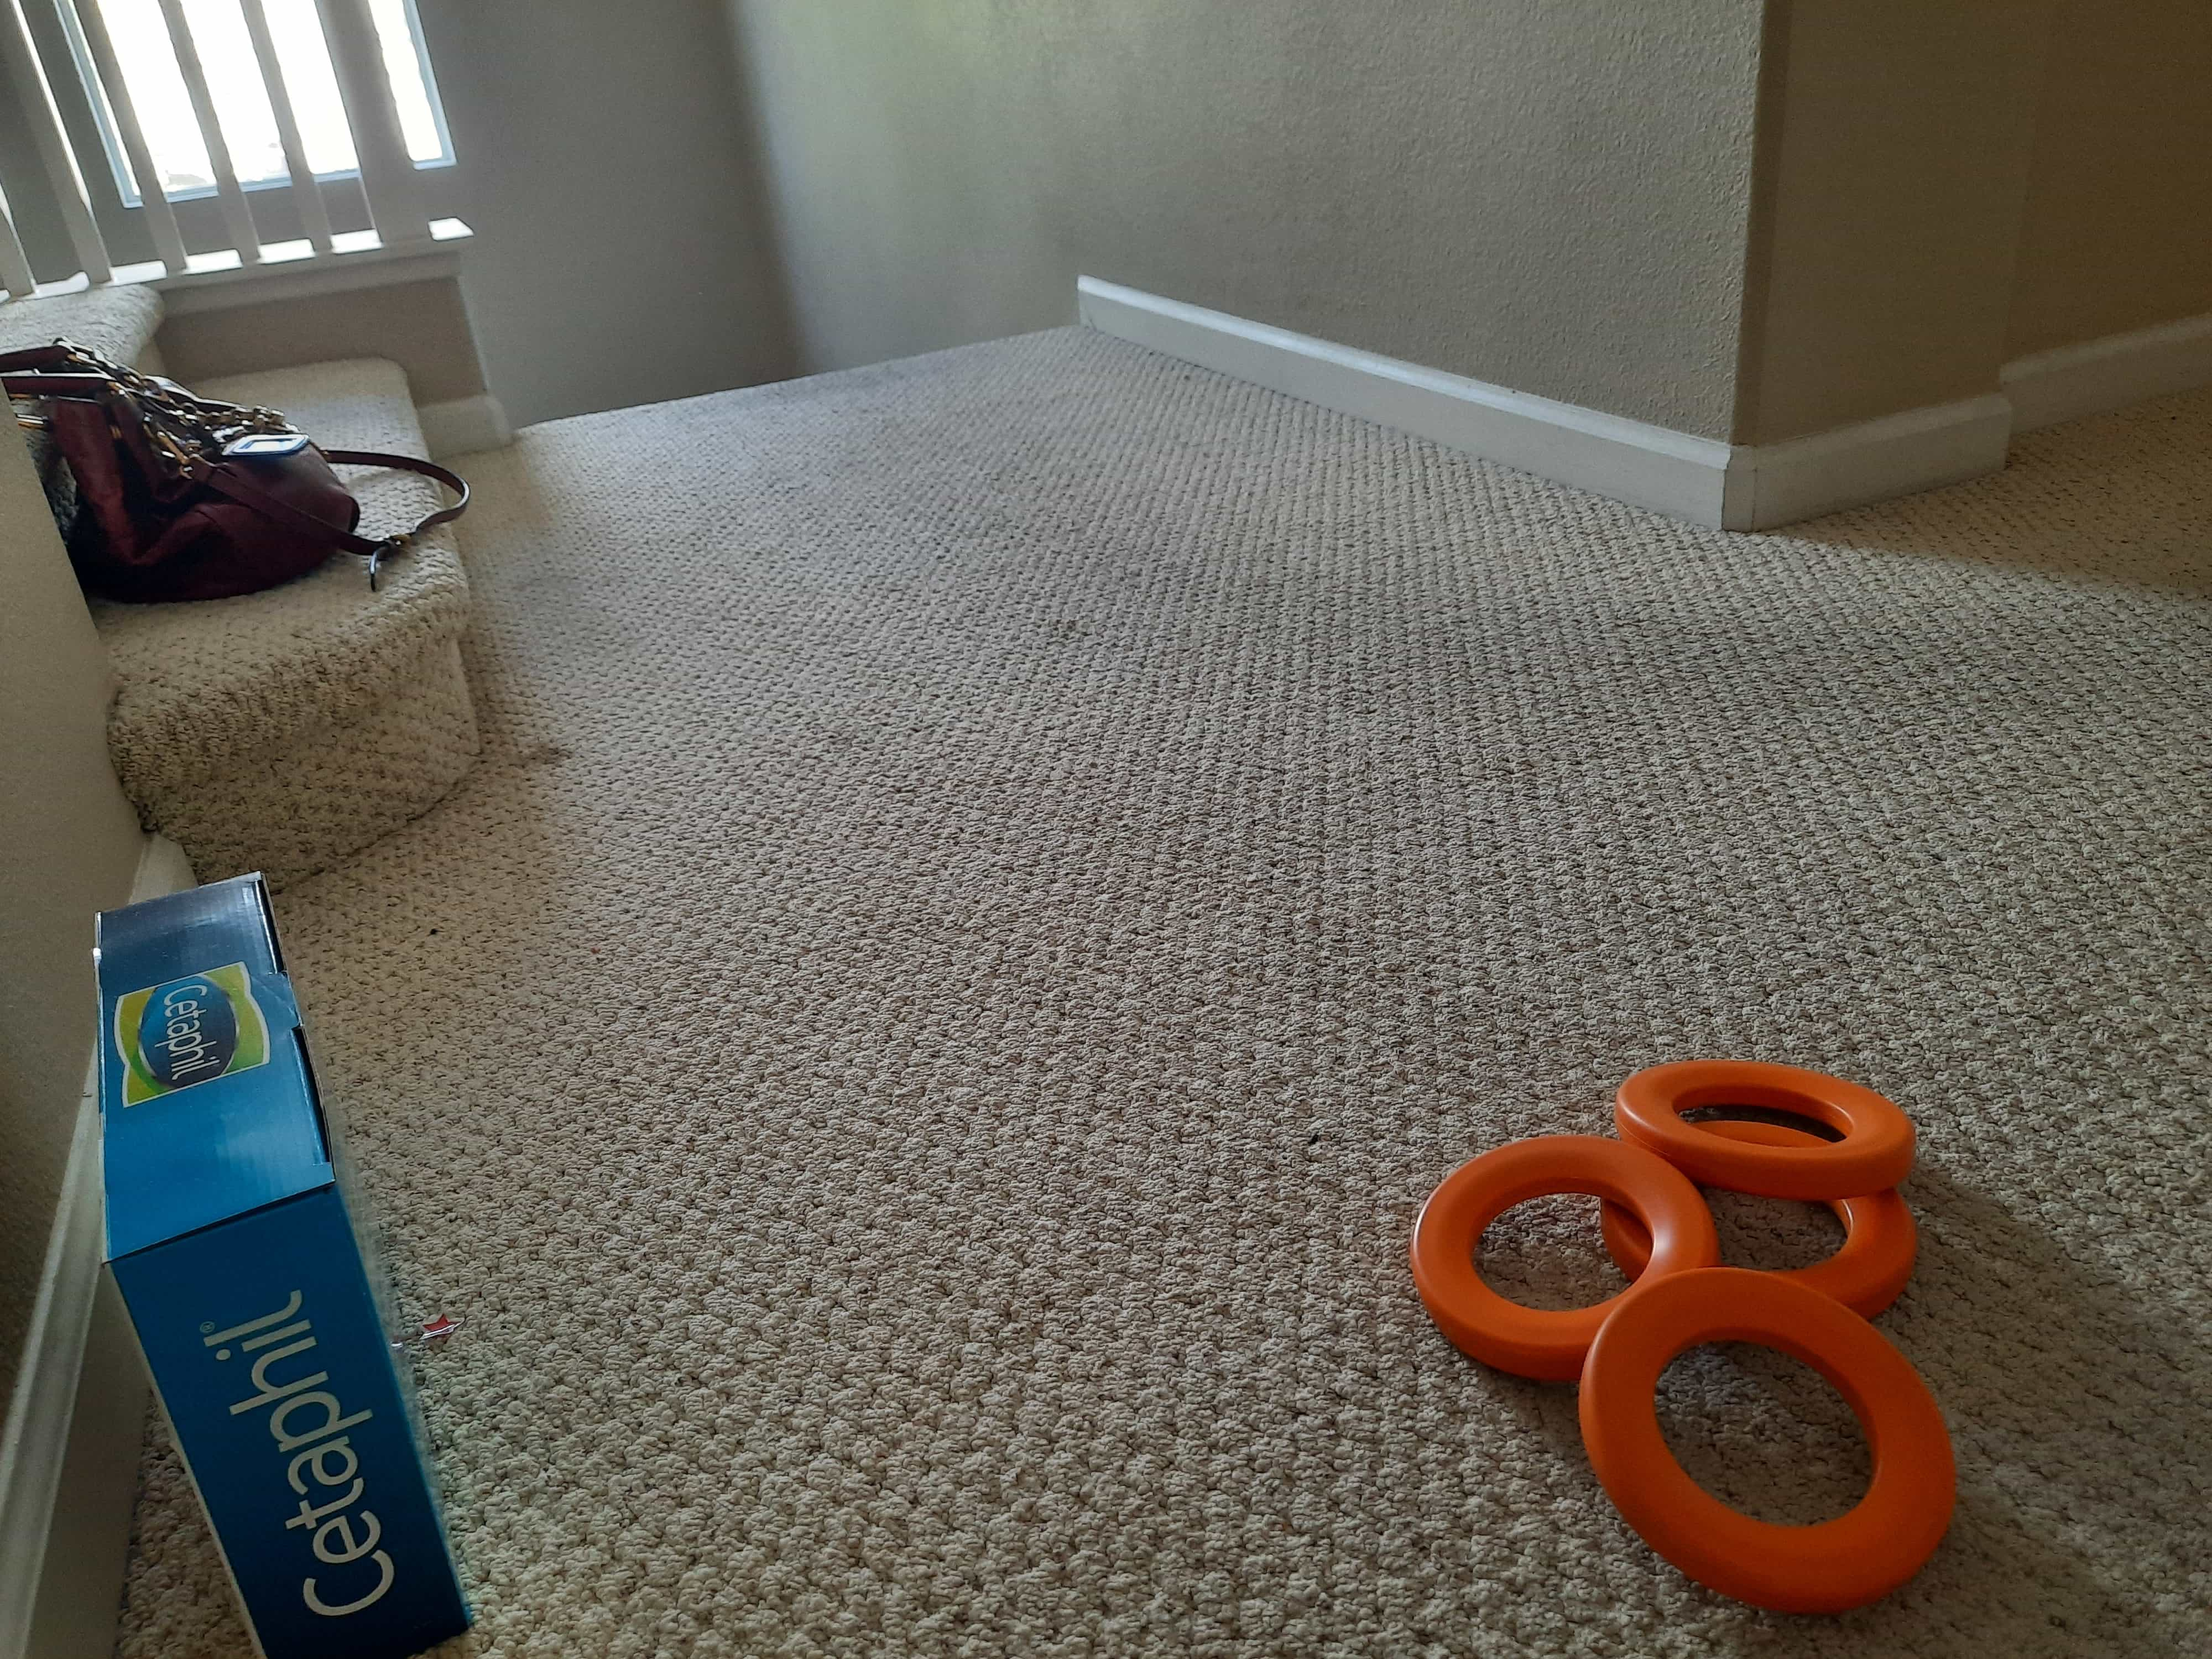OneStack: (1588, 1272, 1959, 1601), (1406, 1145, 1716, 1373), (1625, 1044, 1911, 1183), (1716, 1194, 1923, 1319)
